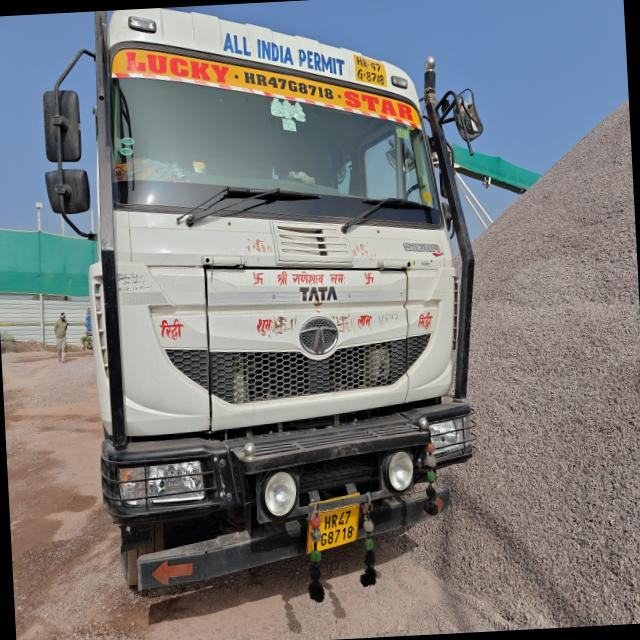license_plate: (318, 504, 359, 550)
